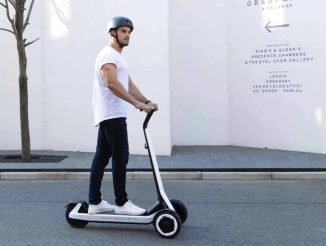scooter: (65, 101, 187, 241)
with helmet: (105, 14, 134, 52)
